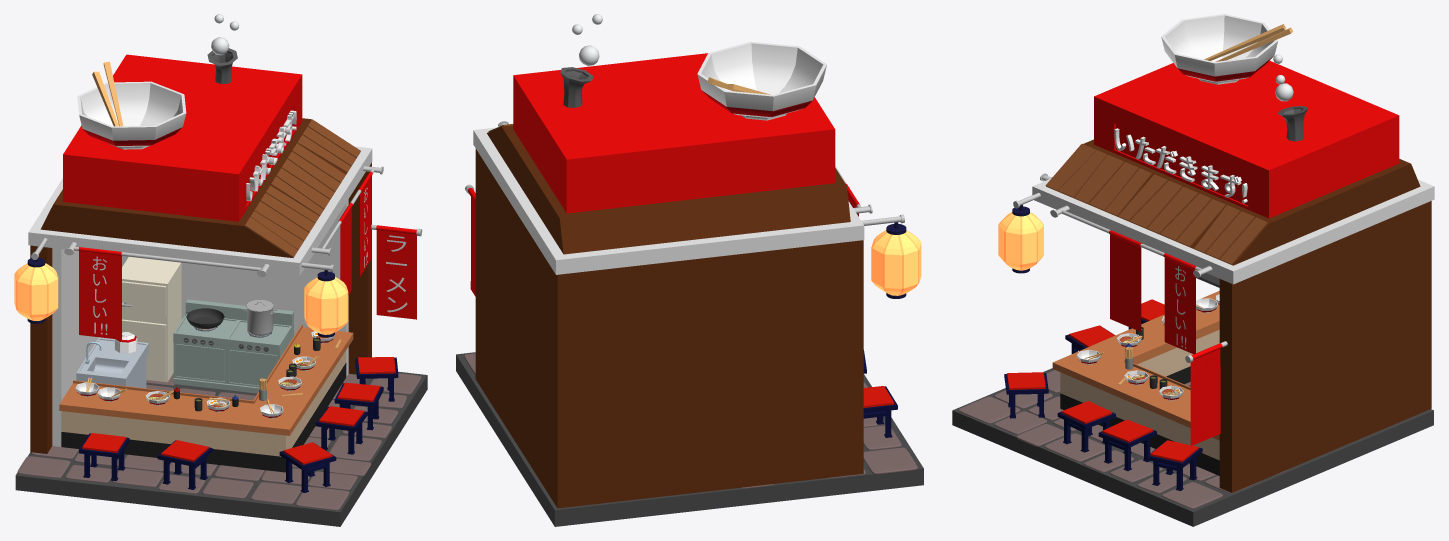
The model's file is ramen-store.glb.
3 views of the same model, side by side, from view 1: azimuth 30°, elevation 25°; view 2: azimuth 150°, elevation 25°; view 3: azimuth 270°, elevation 25° (orthographic). The views are drawn at different scales.
Visible parts, largest first — view 1: main wall, table, block stone, stone floor, roof planks, brown walls, refridgerator, empty bowl.003, burner, banner, banner.002, sink (+18 smaller); view 2: brown walls, main wall, stone floor, empty bowl.003, lantern.003, block stone, chair.005, chimney, banner.002; view 3: brown walls, main wall, table, roof planks, stone floor, block stone, empty bowl.003, banner.003, banner.001, banner.002, lantern.002, name plate (+7 smaller).
Part boxes in pixels (bbox=[...]): main wall: bbox=[28, 54, 372, 446]; table: bbox=[59, 324, 353, 472]; block stone: bbox=[17, 373, 421, 510]; stone floor: bbox=[15, 371, 427, 526]; roof planks: bbox=[244, 119, 360, 257]; brown walls: bbox=[30, 162, 371, 453]; refridgerator: bbox=[122, 256, 181, 382]; empty bowl.003: bbox=[77, 81, 186, 149]; burner: bbox=[173, 299, 293, 393]; banner: bbox=[78, 247, 121, 339]; banner.002: bbox=[376, 225, 416, 319]; sink: bbox=[76, 337, 148, 388]; brown walls: bbox=[475, 149, 863, 508]; main wall: bbox=[473, 53, 864, 274]; stone floor: bbox=[456, 352, 923, 526]; empty bowl.003: bbox=[697, 41, 826, 120]; lantern.003: bbox=[871, 230, 921, 295]; block stone: bbox=[464, 353, 917, 488]; chair.005: bbox=[863, 386, 897, 437]; chimney: bbox=[560, 67, 593, 107]; banner.002: bbox=[467, 188, 475, 296]; brown walls: bbox=[1219, 201, 1431, 492]; main wall: bbox=[1032, 60, 1434, 284]; table: bbox=[1052, 291, 1219, 475]; roof planks: bbox=[1045, 144, 1267, 264]; stone floor: bbox=[952, 368, 1433, 526]; block stone: bbox=[958, 370, 1347, 508]; empty bowl.003: bbox=[1161, 14, 1277, 84]; banner.003: bbox=[1109, 230, 1142, 331]; banner.001: bbox=[1163, 253, 1196, 354]; banner.002: bbox=[1190, 343, 1222, 445]; lantern.002: bbox=[998, 212, 1043, 270]; name plate: bbox=[1114, 128, 1247, 203].
Size of the model in its own units: 17.54 by 15.67 by 17.56.
